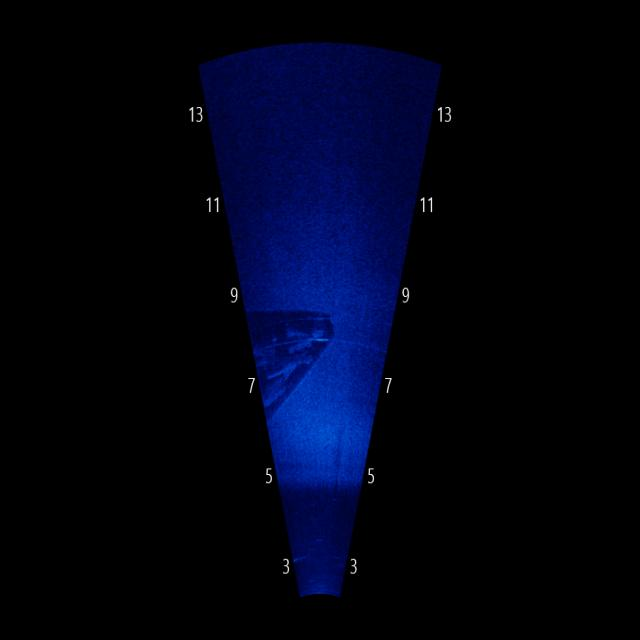triangle: (258, 286, 336, 430)
